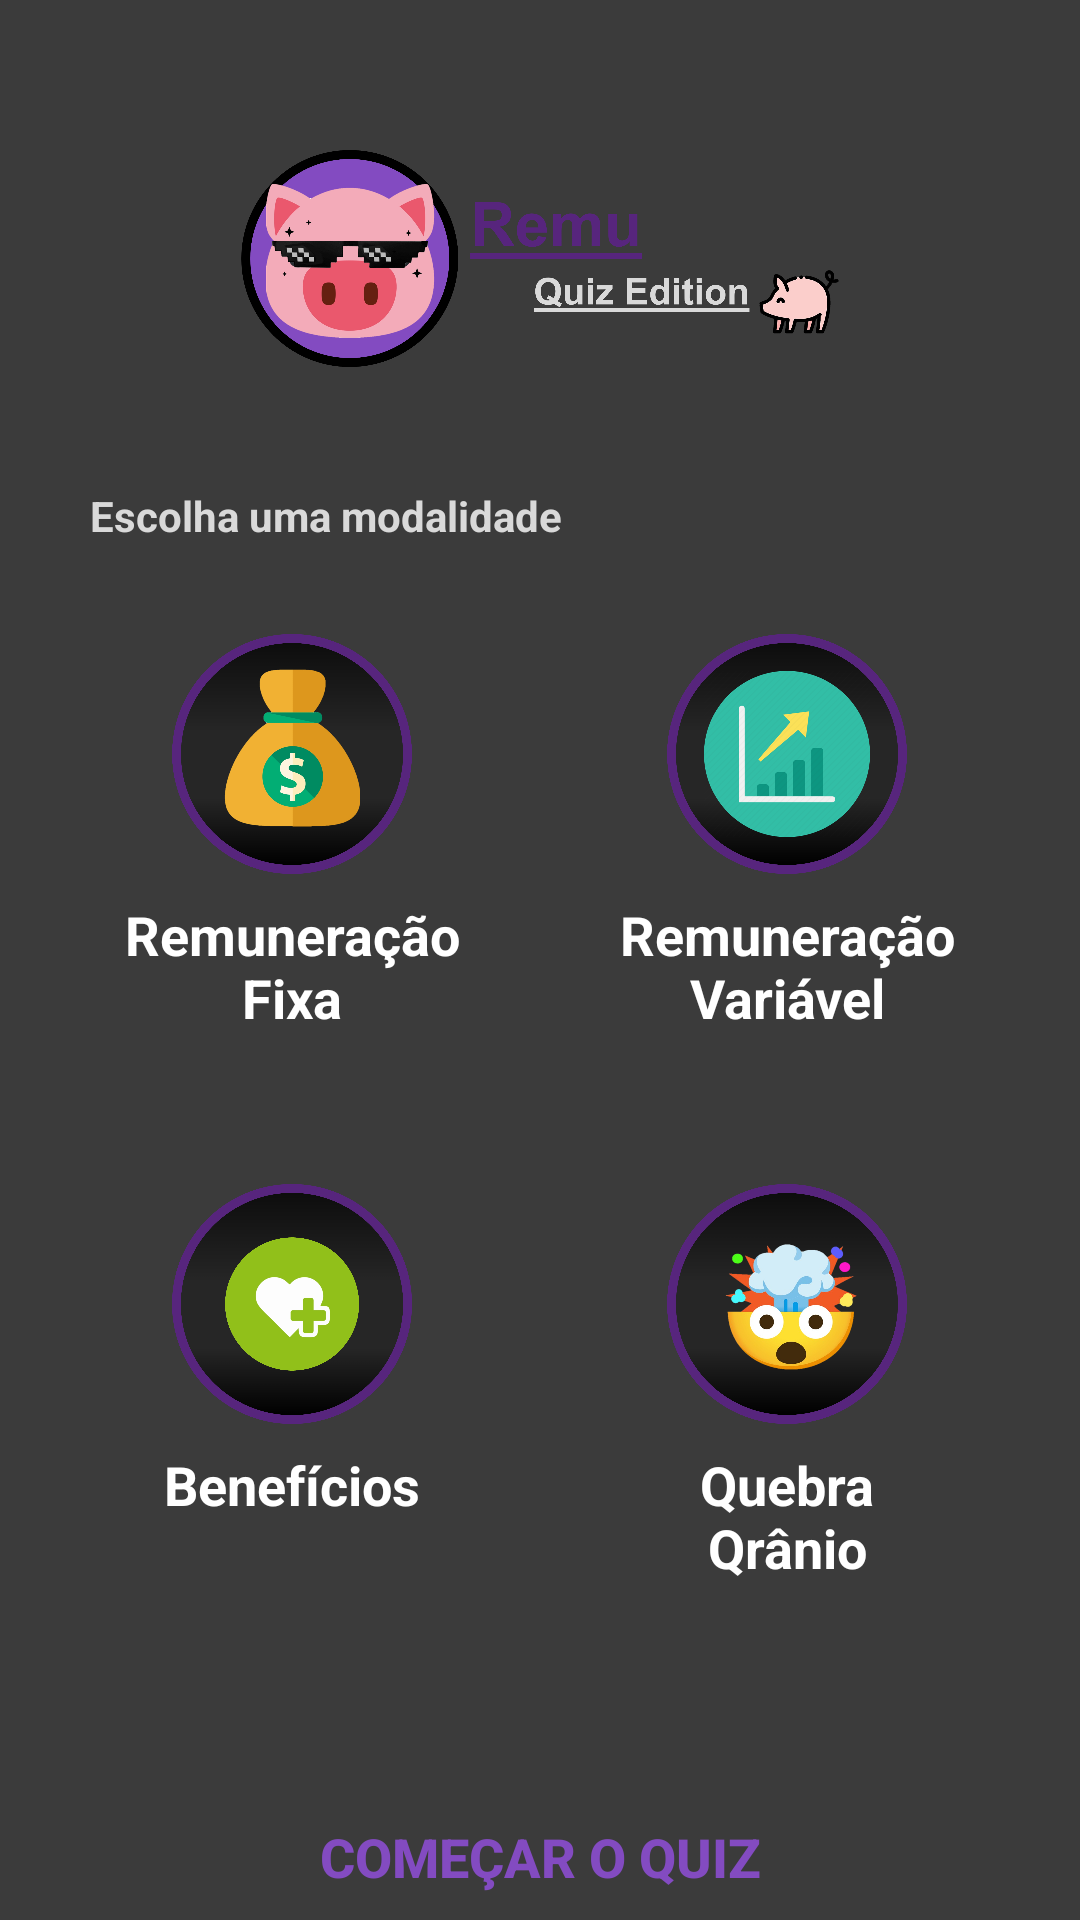

Icons on this 1080px×1920px Android screen, each with the point to tap as (x=x, y=y):
explosion: (x=787, y=1304)
